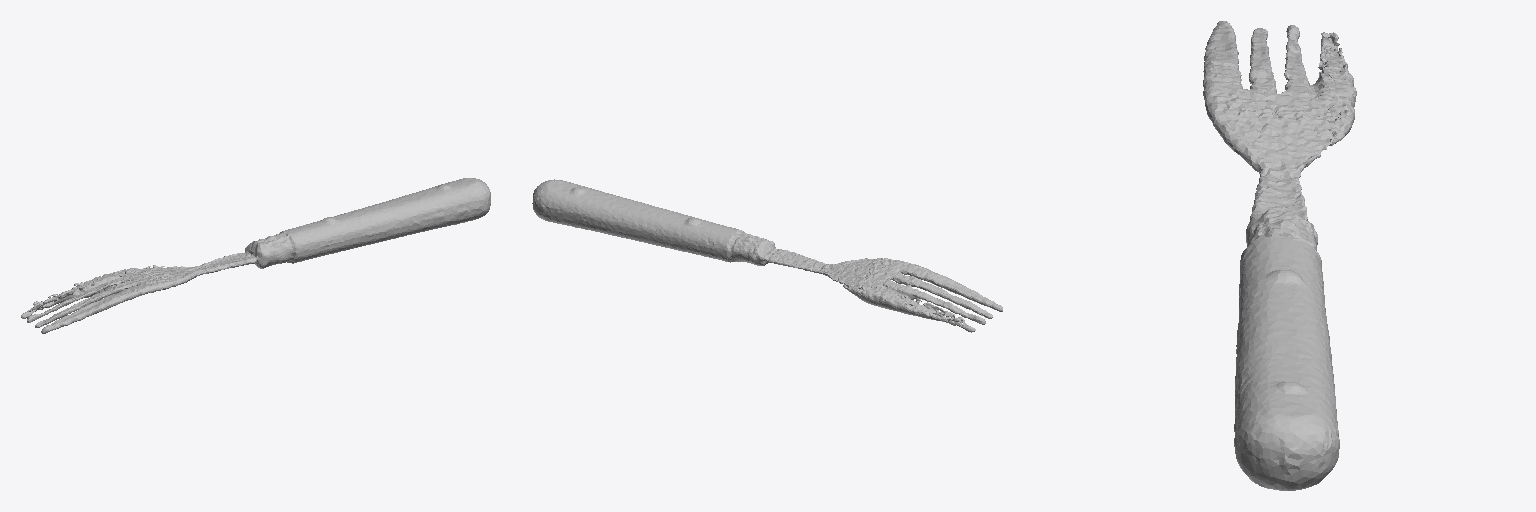
URDF robot description (root):
<?xml version="1.0"?>
<robot name="root">
  <link name="base_link">
    <visual>
      <origin xyz="0 0 0" rpy="0 0 0" />
      <geometry>
        <mesh filename="../meshes/030_fork.stl" scale="1.0000E+00 1.0000E+00 1.0000E+00" />
      </geometry>
      <material name="">
        <color rgba="7.50E-01 7.50E-01 7.50E-01 1" />
      </material>
    </visual>
    <collision>
      <origin xyz="0 0 0" rpy="0 0 0" />
      <geometry>
        <mesh filename="../meshes/030_fork.stl" scale="1.0000E+00 1.0000E+00 1.0000E+00" />
      </geometry>
    </collision>
  </link>
</robot>

--- Render facts (derived) ---
Views: 3 orthographic renders of the robot side by side, from view 1: azimuth 30°, elevation 25°; view 2: azimuth 150°, elevation 25°; view 3: azimuth 270°, elevation 25°.
Robot: root — 1 links, 0 joints (none); root link base_link; default pose: every joint at zero.
Links seen in each view (by area): view 1: base_link; view 2: base_link; view 3: base_link.
Boxes of the visible links, x1=… form: base_link: x1=21, y1=178, x2=490, y2=333; base_link: x1=532, y1=179, x2=1002, y2=332; base_link: x1=1203, y1=21, x2=1356, y2=490.
Size in the robot's own frame: 0.1976 by 0.0271 by 0.0159 metres.
1 mesh visuals loaded from 1 distinct referenced files (1 binary STL).
